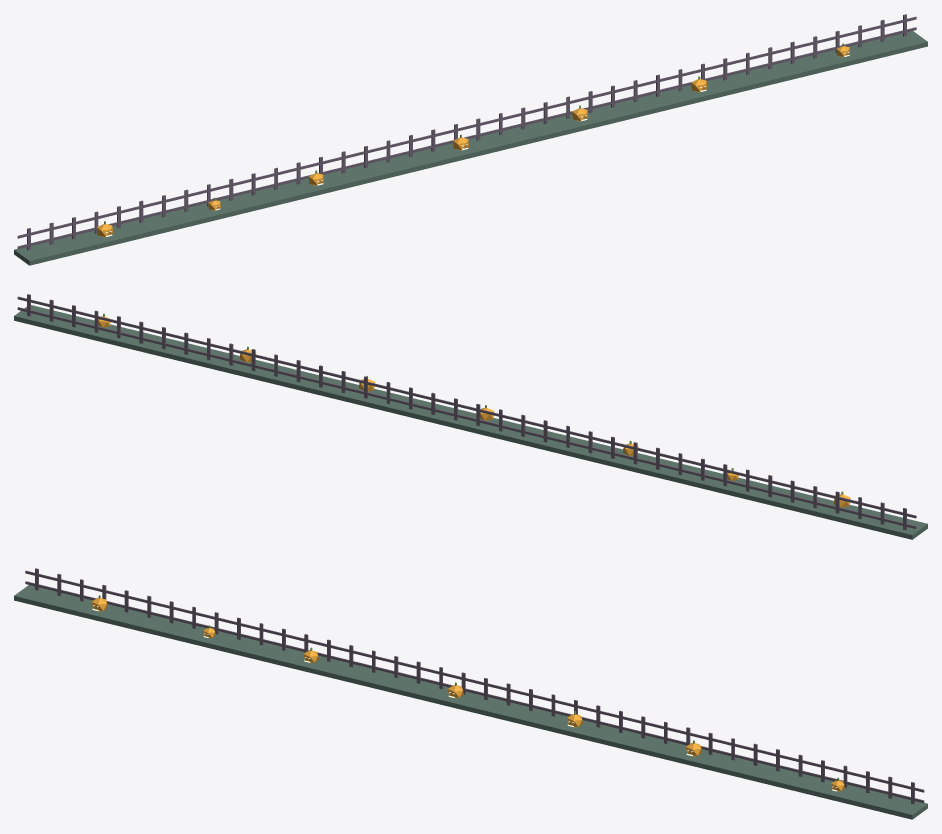
File: BG_Pumpkins.fbx
3 renders of one model, top to bottom at view 1: azimuth 30°, elevation 25°; view 2: azimuth 150°, elevation 25°; view 3: azimuth 330°, elevation 25°, orthographic.
Visible parts, largest first — view 1: BG_Pumpkins; view 2: BG_Pumpkins; view 3: BG_Pumpkins.
Part boxes in pixels (box(x1,y1,x2,y2)): BG_Pumpkins: box(14, 14, 927, 265); BG_Pumpkins: box(14, 294, 927, 539); BG_Pumpkins: box(14, 568, 927, 819).
Bounding box in the file's own units: 40 × 1.1 × 1.2.
